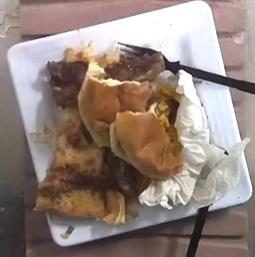burger: (78, 63, 183, 180)
pizza: (35, 117, 151, 224)
ribs: (47, 61, 87, 108), (104, 53, 165, 81)
